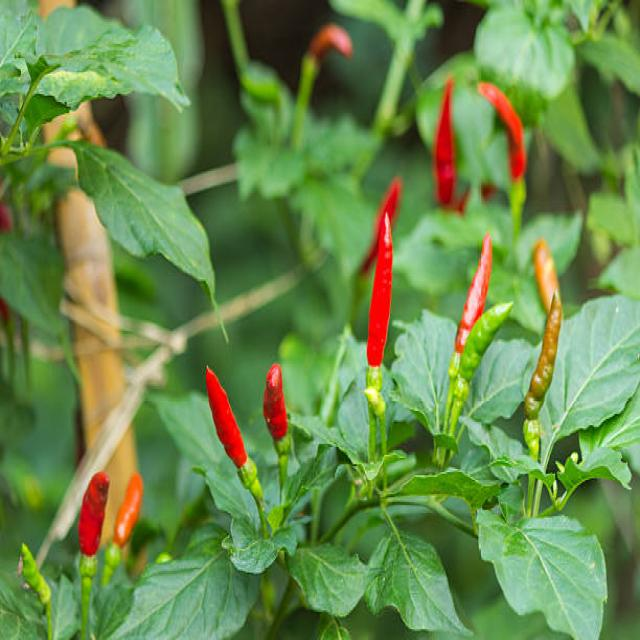Half-Ripe: (524, 275, 564, 456)
Ripe: (455, 232, 492, 353), (367, 212, 392, 367), (207, 367, 246, 466), (76, 472, 110, 560), (262, 364, 287, 441)
Unripe: (444, 298, 516, 438), (20, 546, 49, 599)
